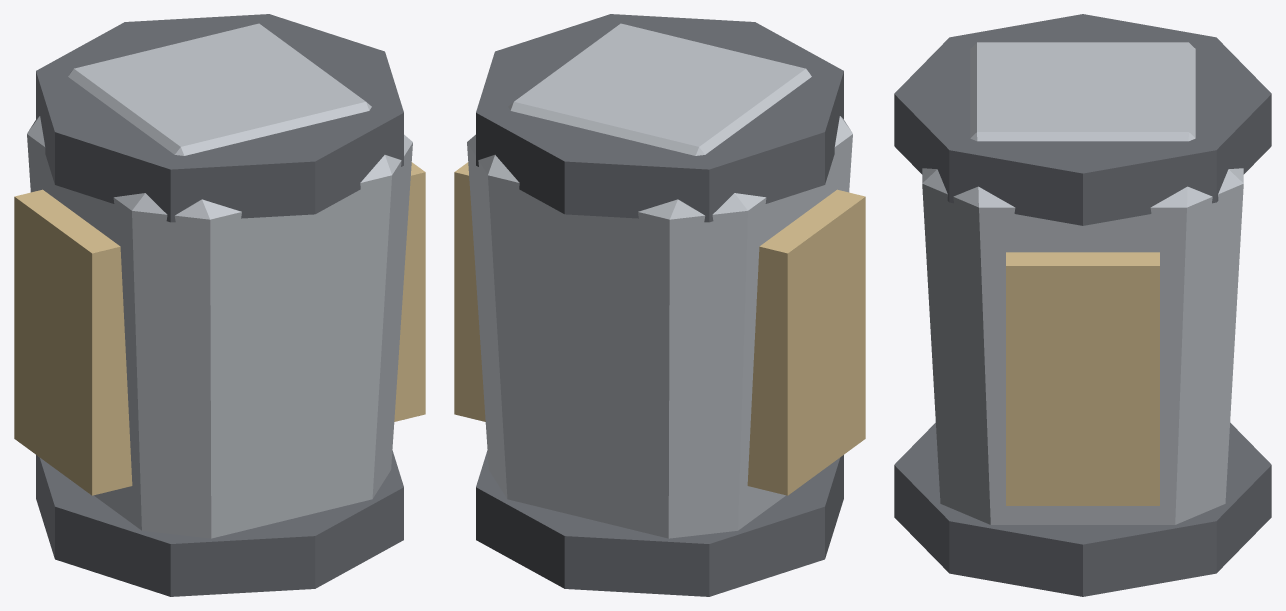
File: bastion.boom_short.glb
3 renders of one model, left to right at view 1: azimuth 30°, elevation 25°; view 2: azimuth 150°, elevation 25°; view 3: azimuth 270°, elevation 25°, orthographic.
Bounding box in the file's own units: 0.792 × 1 × 0.784.
